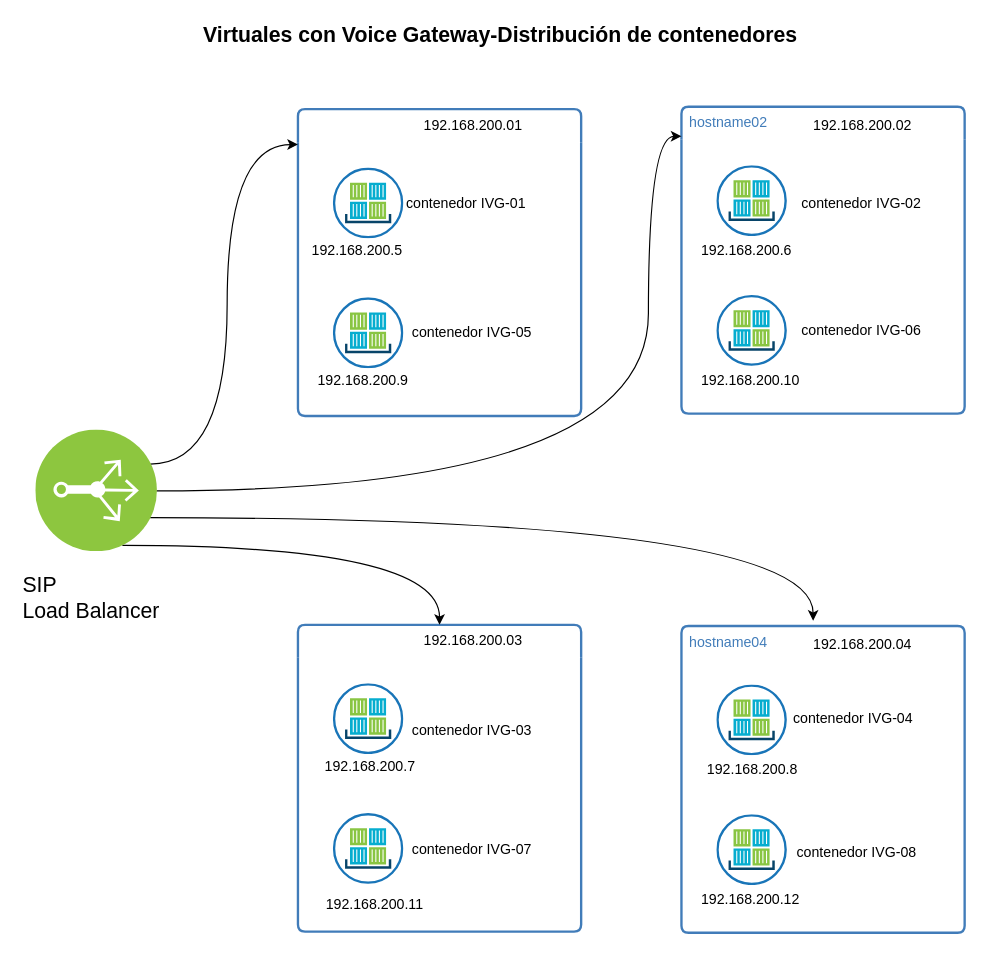
Some shapes in this 985 by 953 pixel diagram are drawn without their labels. Here are the shapes that lost their labels. From the top down, the box of each, then its label:
(296, 107, 582, 417): hostname01
(296, 623, 582, 932): hostname03
